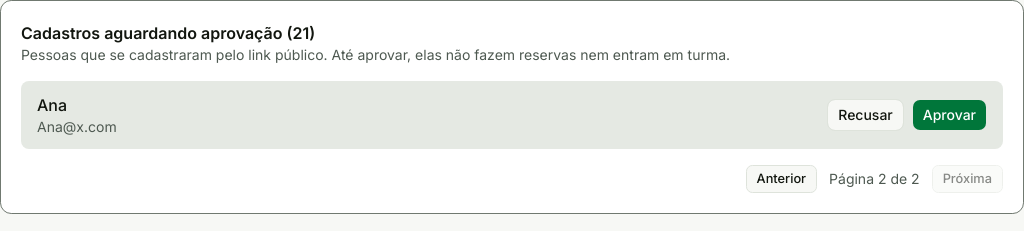
Test case: CadastrosPendentes › **a página volta para a que o servidor devolveu**
The width and height of the screenshot is (1024, 231).
Expected: the text "Ana" is shown, 37,95 -> 67,115
Click the button "Aprovar". click: point(949, 115)
box: 912,99 -> 987,131
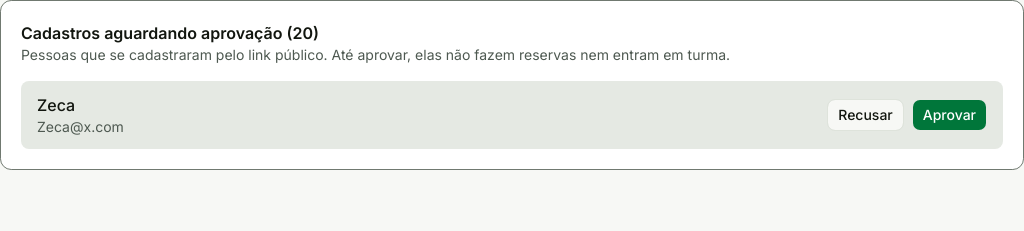
Result: the text "Zeca" is shown at 37,95 -> 75,115
Result: the text "Página 2 de" is gone
